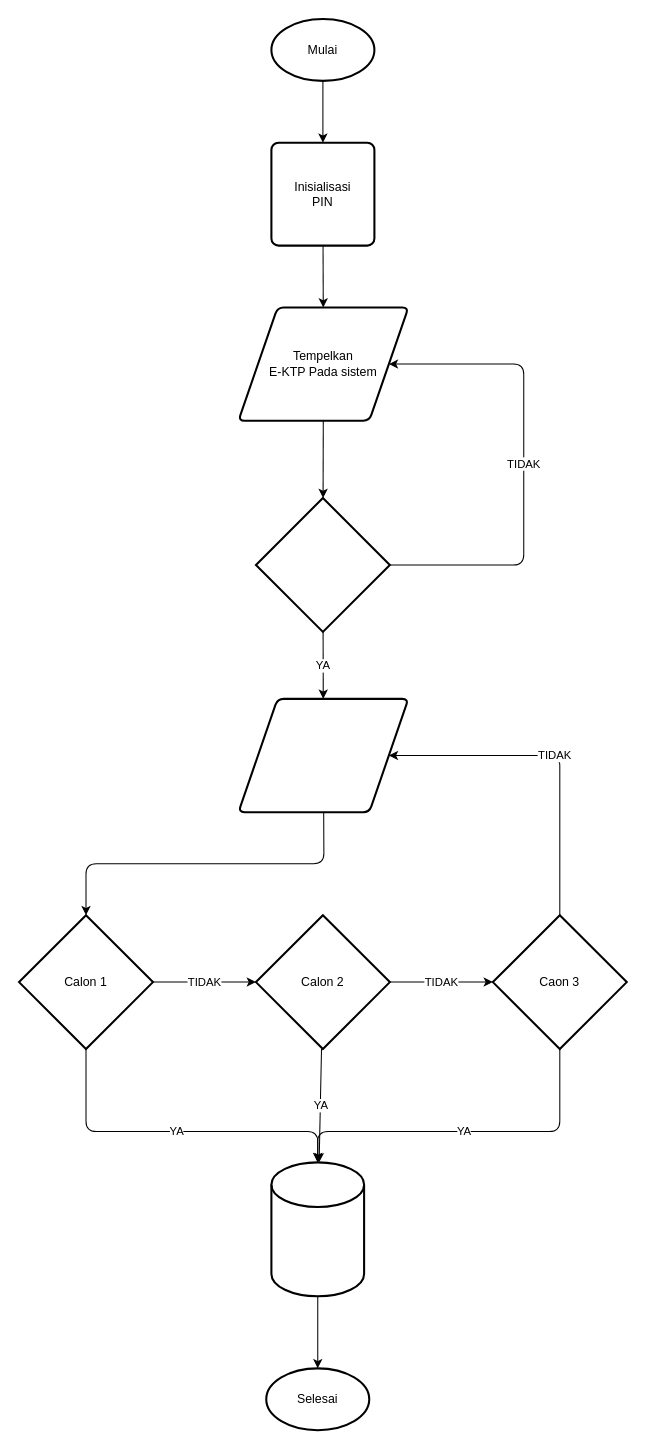
Image size: 645x1448. Some labels were removed from this diagram. The centre of each missing label's shape, as x and y in pixels:
"Data Pelimiliha Tersimpan" goes at point 317,1229.
"EKTP Terdaftar" goes at point 322,564.
"Pilih Calon" goes at point 323,755.
